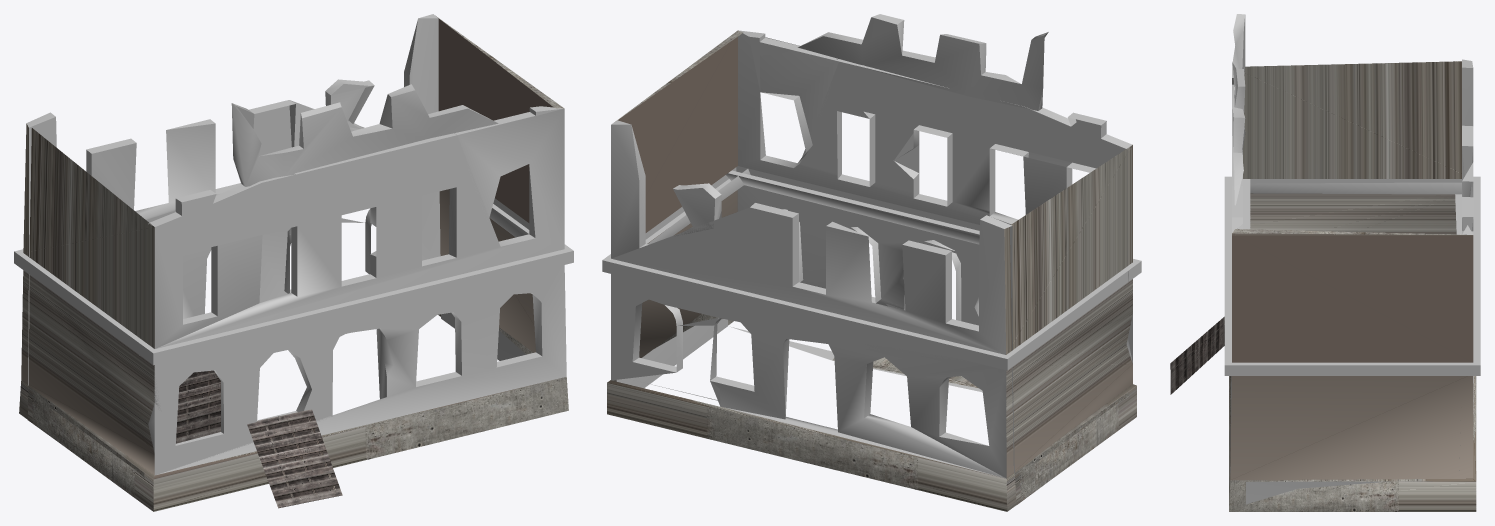
The model's file is house yellow2_LOD3.fbx.
The picture shows the model from 3 angles, left to right: view 1: azimuth 30°, elevation 25°; view 2: azimuth 150°, elevation 25°; view 3: azimuth 270°, elevation 25°; orthographic projection. The views are drawn at different scales.
Parts seen in each view (by area): view 1: house_yellow2_LOD2; view 2: house_yellow2_LOD2; view 3: house_yellow2_LOD2.
Boxes of the visible parts, x1=… form: house_yellow2_LOD2: x1=14, y1=14, x2=573, y2=511; house_yellow2_LOD2: x1=602, y1=14, x2=1141, y2=511; house_yellow2_LOD2: x1=1170, y1=14, x2=1480, y2=511.
Bounding box in the file's own units: 9.25 × 8.02 × 6.42.
